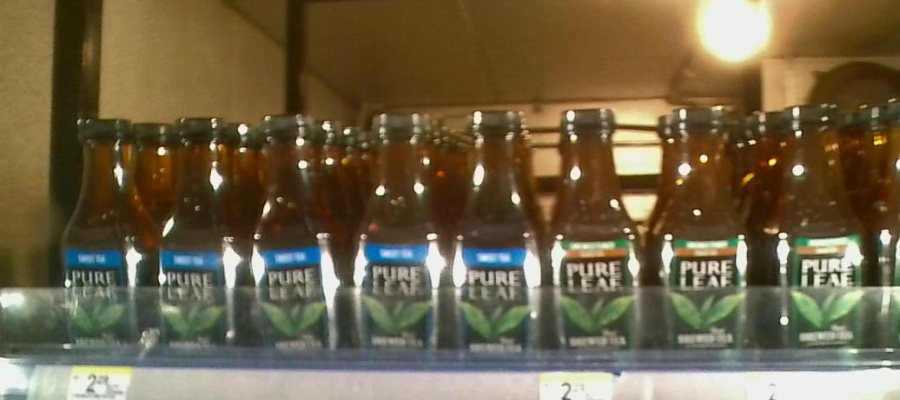bottle: (650, 105, 757, 361), (761, 101, 864, 357), (349, 112, 451, 361), (551, 107, 645, 369), (245, 108, 341, 359), (457, 108, 546, 361), (60, 111, 152, 353), (156, 112, 242, 353)
